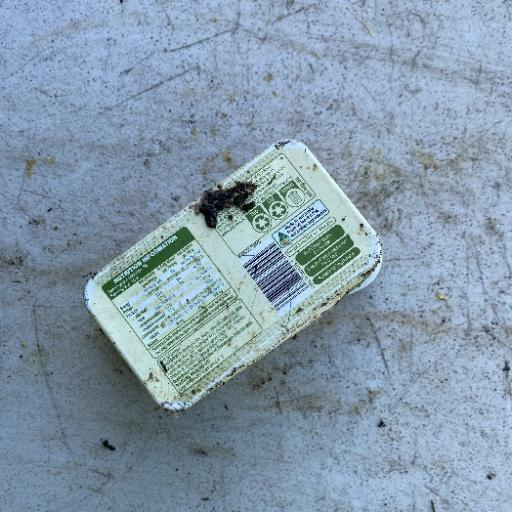Plastic: (81, 136, 384, 413)
